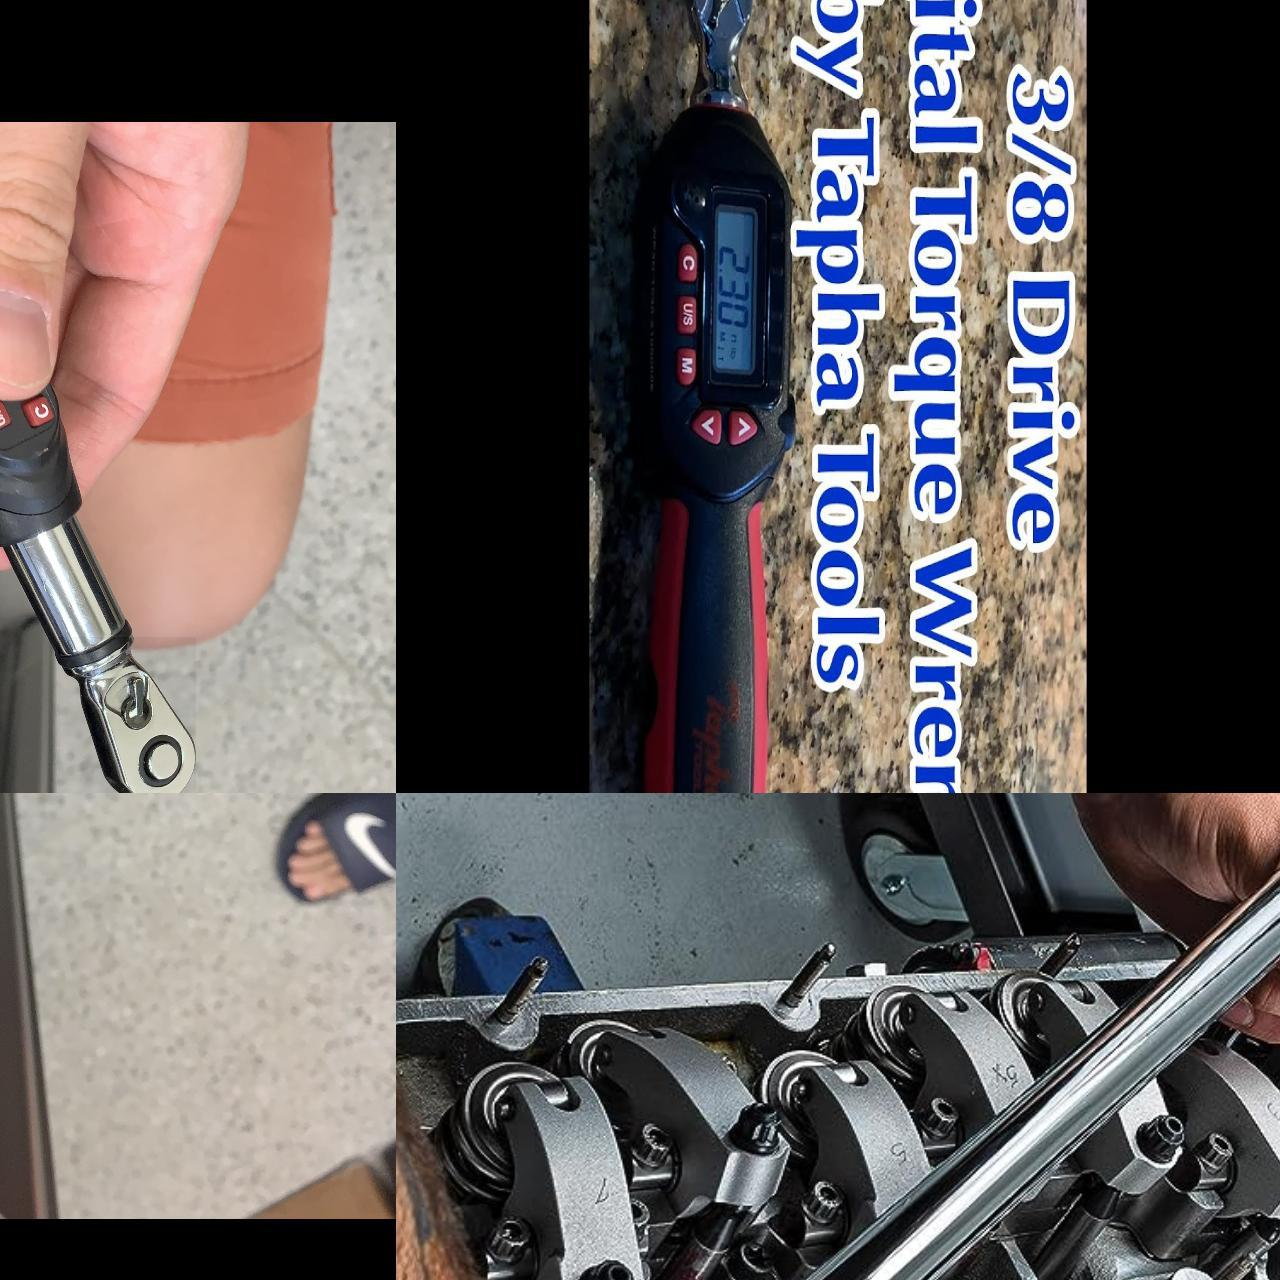Tool: (57, 636, 196, 794), (682, 0, 769, 97)
